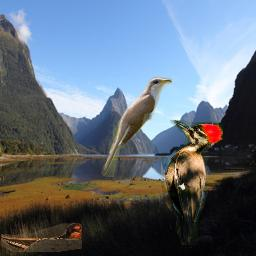Cuckoo: (100, 77, 172, 177)
Swallow: (1, 223, 82, 252)
Woodpecker: (159, 120, 223, 245)
